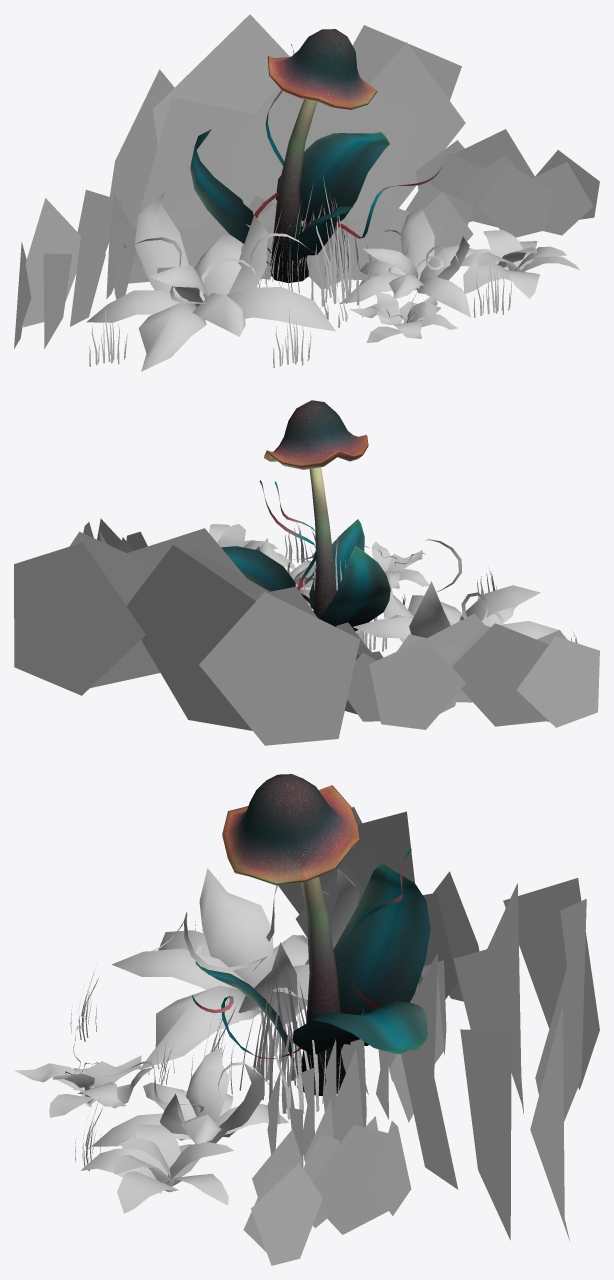
The model's file is Nam.fbx.
3 renders of one model, top to bottom at view 1: azimuth 30°, elevation 25°; view 2: azimuth 150°, elevation 25°; view 3: azimuth 270°, elevation 25°, orthographic. The views are drawn at different scales.
Visible parts, largest first — view 1: Mesh_BushMisc_08, pCylinder2, Mesh_FernBlue_02, Mesh_BushMisc_07, Mesh_BushMisc_06, Mesh_BushMisc_04, Mesh_FernBlue_01, Mesh_Fern_01, Mesh_BushMisc_02, Herb_S, Mesh_Fern_02, Herb_M2 (+2 smaller); view 2: Mesh_BushMisc_08, Mesh_BushMisc_06, pCylinder2, Mesh_FernBlue_02, Mesh_BushMisc_02, Mesh_Fern_02, Mesh_Fern_01, Mesh_BushMisc_07, Mesh_FernBlue_01, Herb_S; view 3: Mesh_BushMisc_08, pCylinder2, Mesh_FernBlue_02, Mesh_BushMisc_07, Mesh_BushMisc_06, Mesh_FernBlue_01, Mesh_Fern_01, Mesh_BushMisc_04, Herb_S, Mesh_Fern_02, Mesh_BushMisc_02.
Part boxes in pixels (<box>): Mesh_BushMisc_08: <box>109,14,465,227</box>; pCylinder2: <box>190,29,441,282</box>; Mesh_FernBlue_02: <box>86,192,335,371</box>; Mesh_BushMisc_07: <box>415,129,599,237</box>; Mesh_BushMisc_06: <box>14,190,136,348</box>; Mesh_BushMisc_04: <box>301,175,473,288</box>; Mesh_FernBlue_01: <box>340,206,477,317</box>; Mesh_Fern_01: <box>460,230,579,298</box>; Mesh_BushMisc_02: <box>128,192,276,283</box>; Herb_S: <box>256,174,371,306</box>; Mesh_Fern_02: <box>349,287,457,342</box>; Herb_M2: <box>89,310,127,366</box>; Mesh_BushMisc_08: <box>14,528,360,745</box>; Mesh_BushMisc_06: <box>369,613,599,729</box>; pCylinder2: <box>221,400,390,631</box>; Mesh_FernBlue_02: <box>353,539,568,642</box>; Mesh_BushMisc_02: <box>336,622,383,721</box>; Mesh_Fern_02: <box>364,541,430,588</box>; Mesh_Fern_01: <box>209,524,295,569</box>; Mesh_BushMisc_07: <box>83,518,147,552</box>; Mesh_FernBlue_01: <box>255,527,316,605</box>; Herb_S: <box>292,536,386,651</box>; Mesh_BushMisc_08: <box>401,878,599,1242</box>; pCylinder2: <box>192,774,430,1095</box>; Mesh_FernBlue_02: <box>112,868,359,1069</box>; Mesh_BushMisc_07: <box>243,1116,411,1265</box>; Mesh_BushMisc_06: <box>278,807,479,1001</box>; Mesh_FernBlue_01: <box>91,1047,288,1146</box>; Mesh_Fern_01: <box>81,1124,233,1213</box>; Mesh_BushMisc_04: <box>267,1039,366,1167</box>; Herb_S: <box>191,956,341,1124</box>; Mesh_Fern_02: <box>14,1026,152,1117</box>; Mesh_BushMisc_02: <box>362,960,446,1122</box>.
Size of what is drawn, in the model's own units: 299 by 140 by 204.
